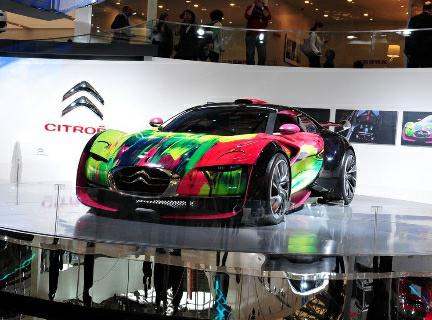雪铁龙-Survolt: (69, 95, 365, 228)
